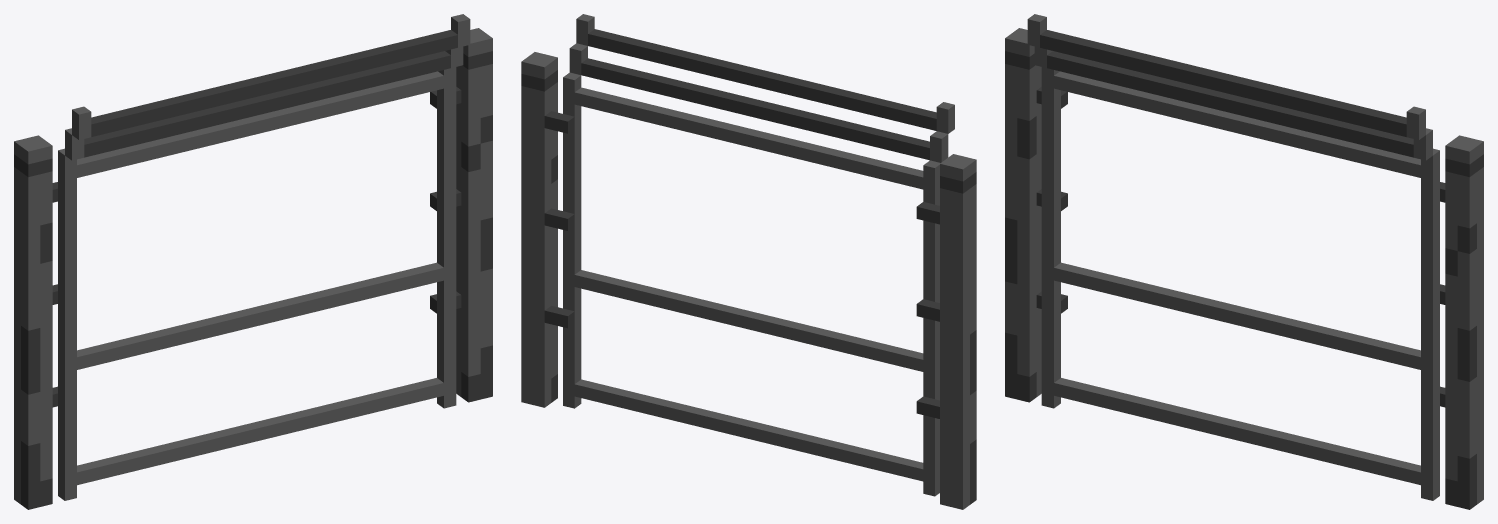
File: Fence0.obj
The picture shows the model from 3 angles, left to right: view 1: azimuth 30°, elevation 25°; view 2: azimuth 150°, elevation 25°; view 3: azimuth 330°, elevation 25°; orthographic projection. The views are drawn at different scales.
Size of the model in its own units: 3.8 by 3.1 by 0.4.
1 material, 1 textured.
